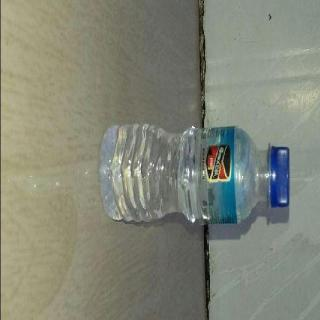Anorganik: (98, 116, 291, 224)
